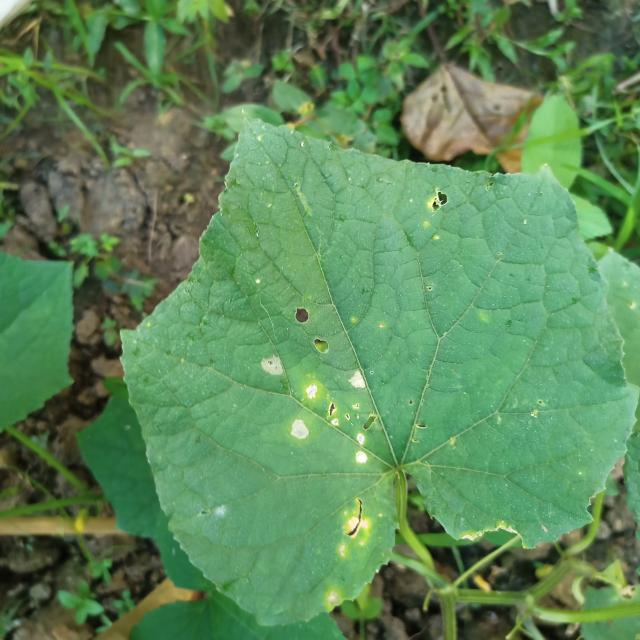disease_cucumber: (253, 351, 384, 473)
